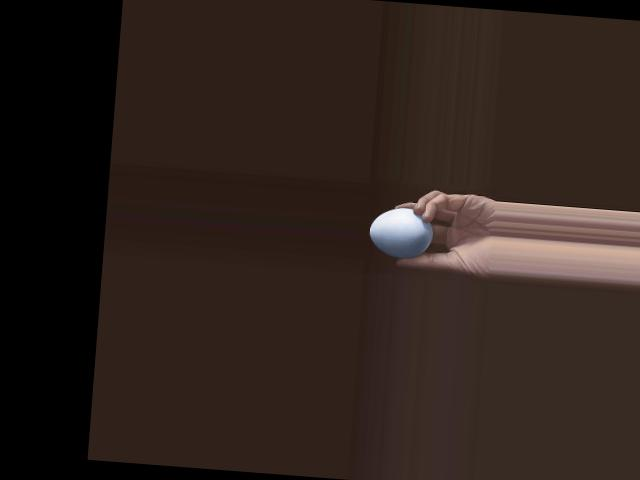egg: (367, 204, 434, 259)
